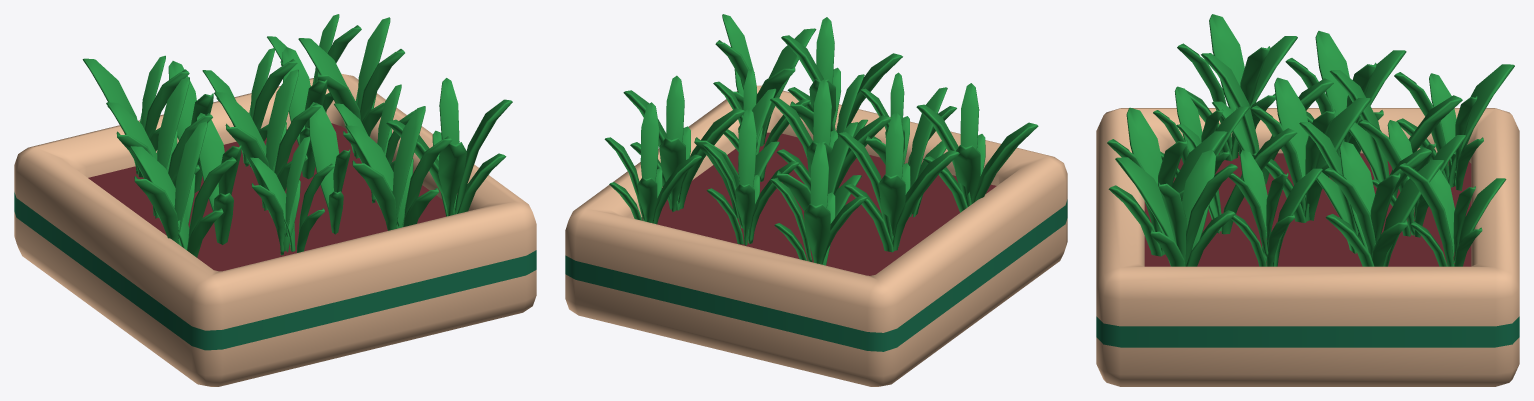
File: Patch_Of_Grass_Food.glb
3 views of the same model, side by side, from view 1: azimuth 30°, elevation 25°; view 2: azimuth 150°, elevation 25°; view 3: azimuth 270°, elevation 25° (orthographic). The views are drawn at different scales.
Parts seen in each view (by area): view 1: Patch_Of_Grass_Food; view 2: Patch_Of_Grass_Food; view 3: Patch_Of_Grass_Food.
Part boxes in pixels (<box>): Patch_Of_Grass_Food: <box>14,14,536,386</box>; Patch_Of_Grass_Food: <box>565,14,1067,386</box>; Patch_Of_Grass_Food: <box>1096,14,1519,386</box>.
Bounding box in the file's own units: 0.1132 × 0.0603 × 0.1086.
1 material, 1 textured.
